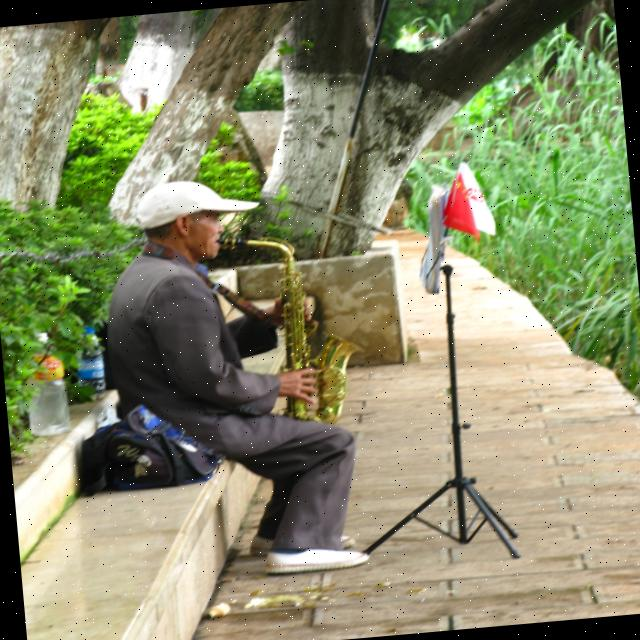saxophone: (214, 222, 373, 438)
